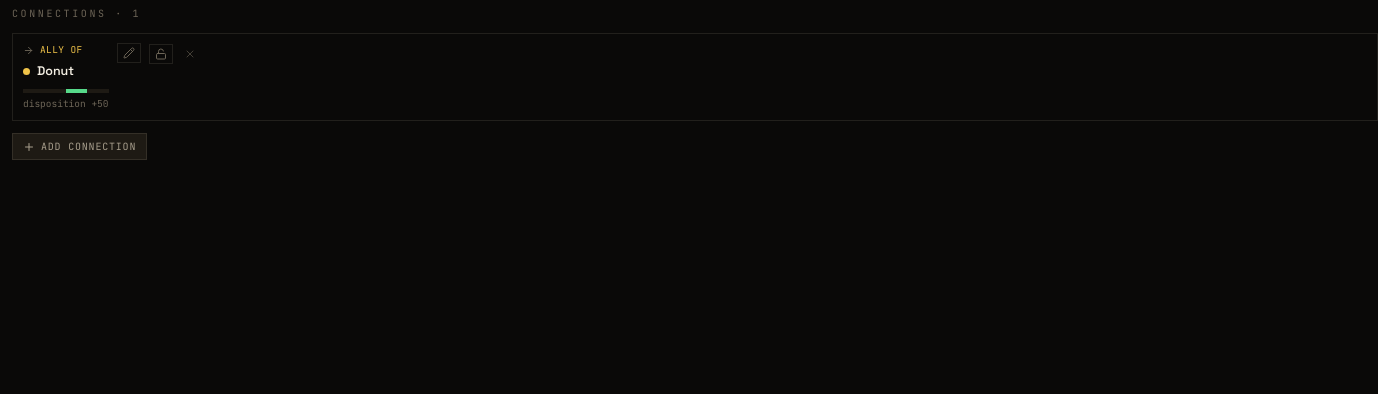
Scenario: ConnectionsPanel › edits a connection: prefilled form, submits, and closes on success
This screenshot has width=1378, height=394.
// open the inline edit form
Click the button named "Edit connection".
click(128, 53)  # box x1=116 y1=43 x2=140 y2=63
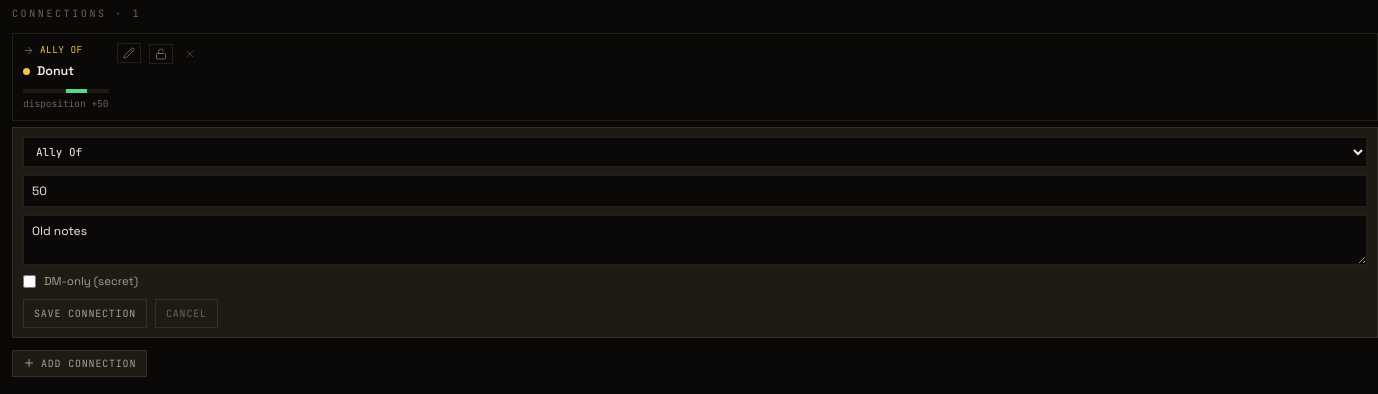
Expected: the dropdown named "Relationship type" shows "Ally Of"
Expected: the number field named "Disposition" holds "50", x1=23 y1=175 x2=1367 y2=207
Expected: the text box named "Notes" holds "Old notes", x1=23 y1=215 x2=1367 y2=265
// change the type and save
Select "Rival Of" in the dropdown named "Relationship type" at (695,152), box x1=23 y1=137 x2=1367 y2=167
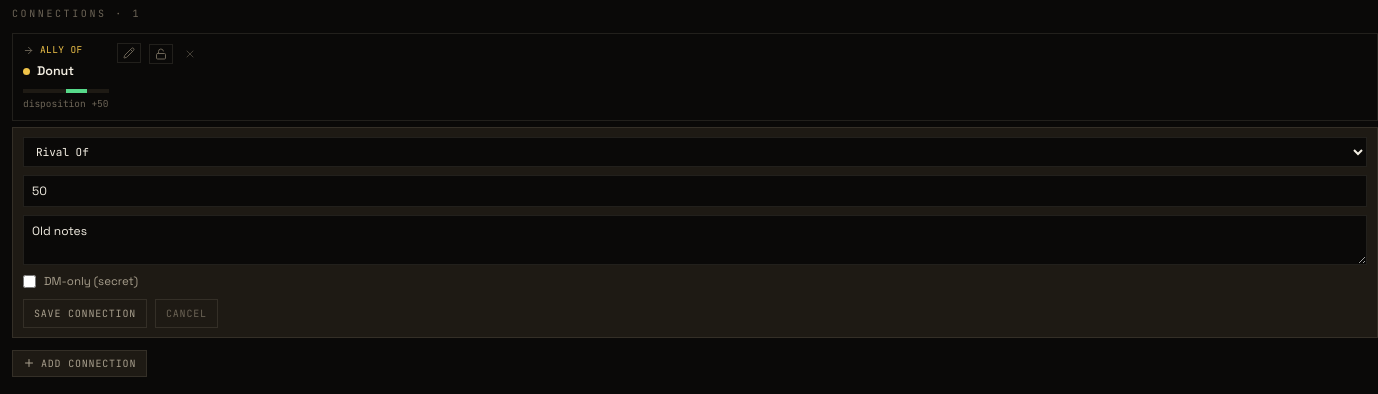
Submit the form named "Relationship type", box x1=12 y1=127 x2=1377 y2=338
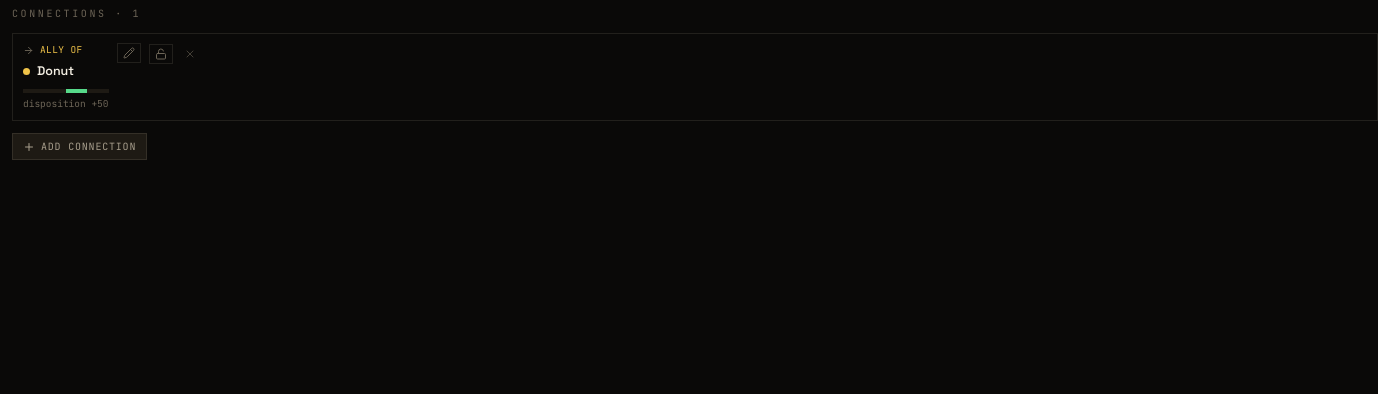
Expected: the dropdown labelled "Relationship type" is gone
